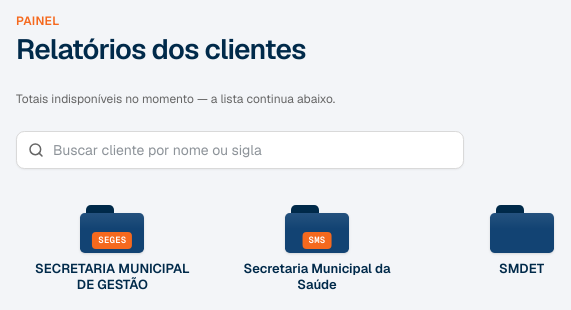
Test: ListaClientes › busca › filtra por nome ignorando maiúsculas e acentos
Type "gestao" into the search field labelled "Buscar cliente".
click(240, 150); type("gestao")  # box x1=16 y1=131 x2=464 y2=169
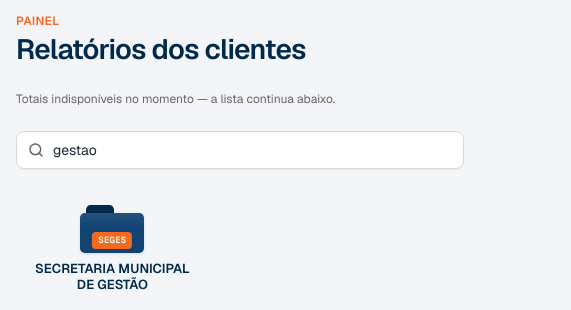
Expected: the text "SECRETARIA MUNICIPAL DE GESTÃO" is shown, x1=28 y1=261 x2=197 y2=294
Expected: the link "Secretaria Municipal da Saúde" is gone
Expected: the link "SMDET" is gone
